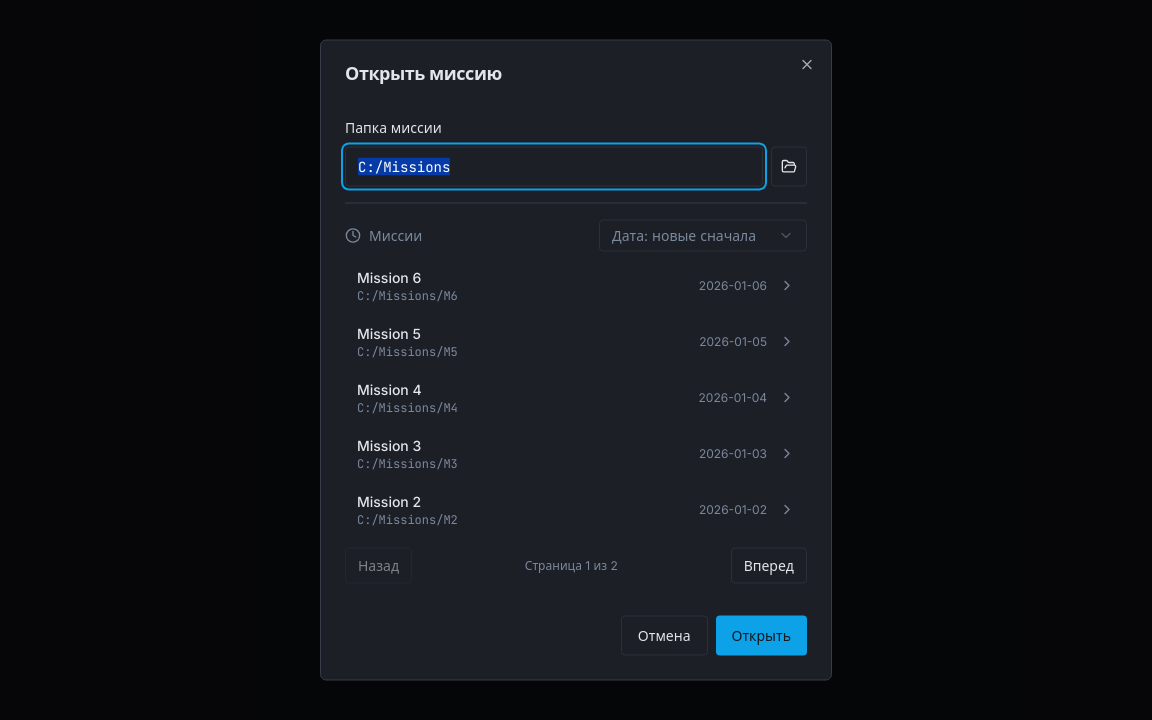
Test: OpenMissionDialog missions list › uses shared missions source, renders "Миссии" and supports pagination
Check: the text "Миссии" is shown, box [345,226,422,246]
Check: the text "Страница 1 из 2" is shown, box [525,558,618,574]
What coordinates should you click on to do the following:
click the button "Вперед"
I would click on:
 (769, 566)
Its box is [731,548,807,584].
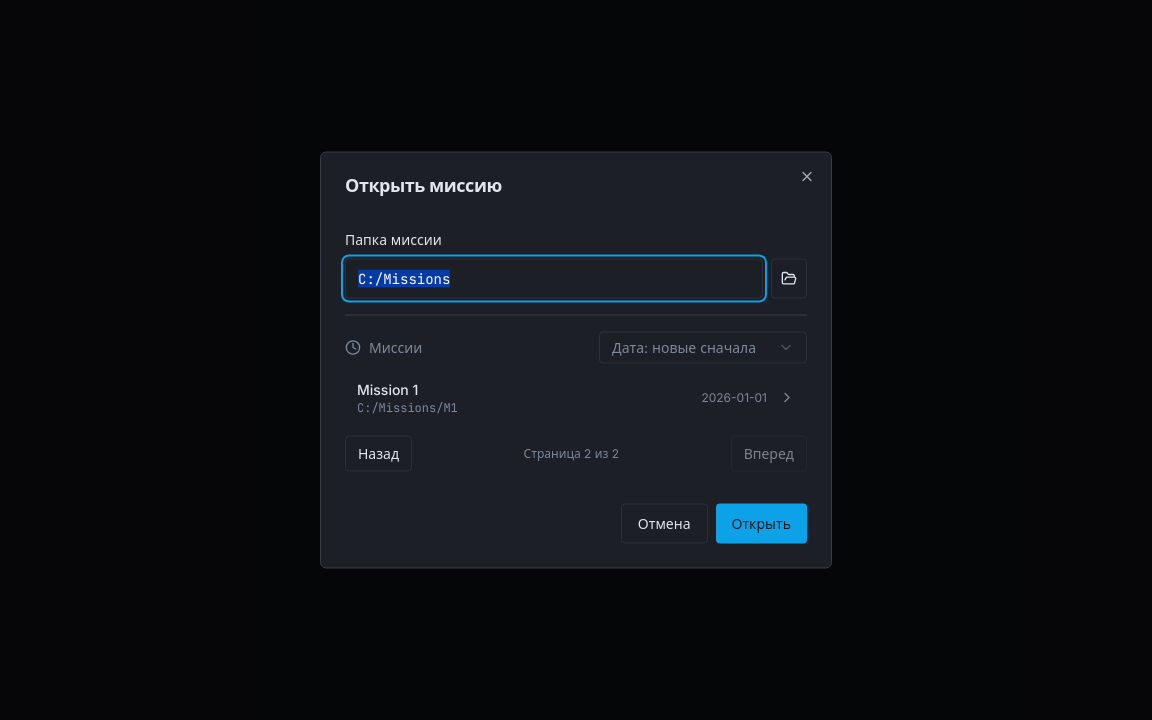
Check: the text "Страница 2 из 2" is shown, box [524,446,619,462]
Check: the text "Mission 1" is shown, box [357,380,418,398]
